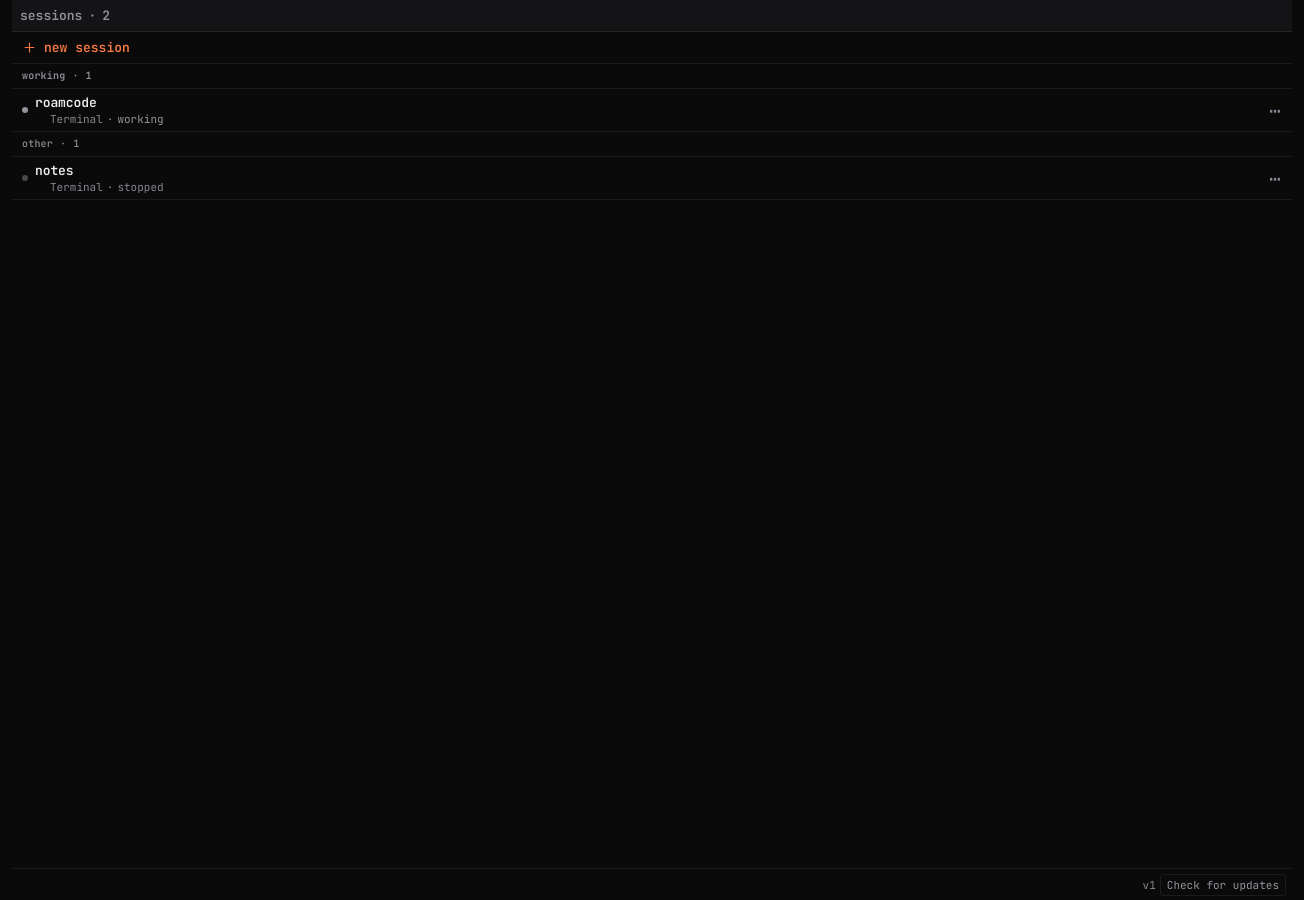
Test: SessionList › offers 'Check for updates' when up to date and confirms when none is found
Click the button "Check for updates" at (1223,884), box top-left (1160, 874), bottom-right (1286, 896)
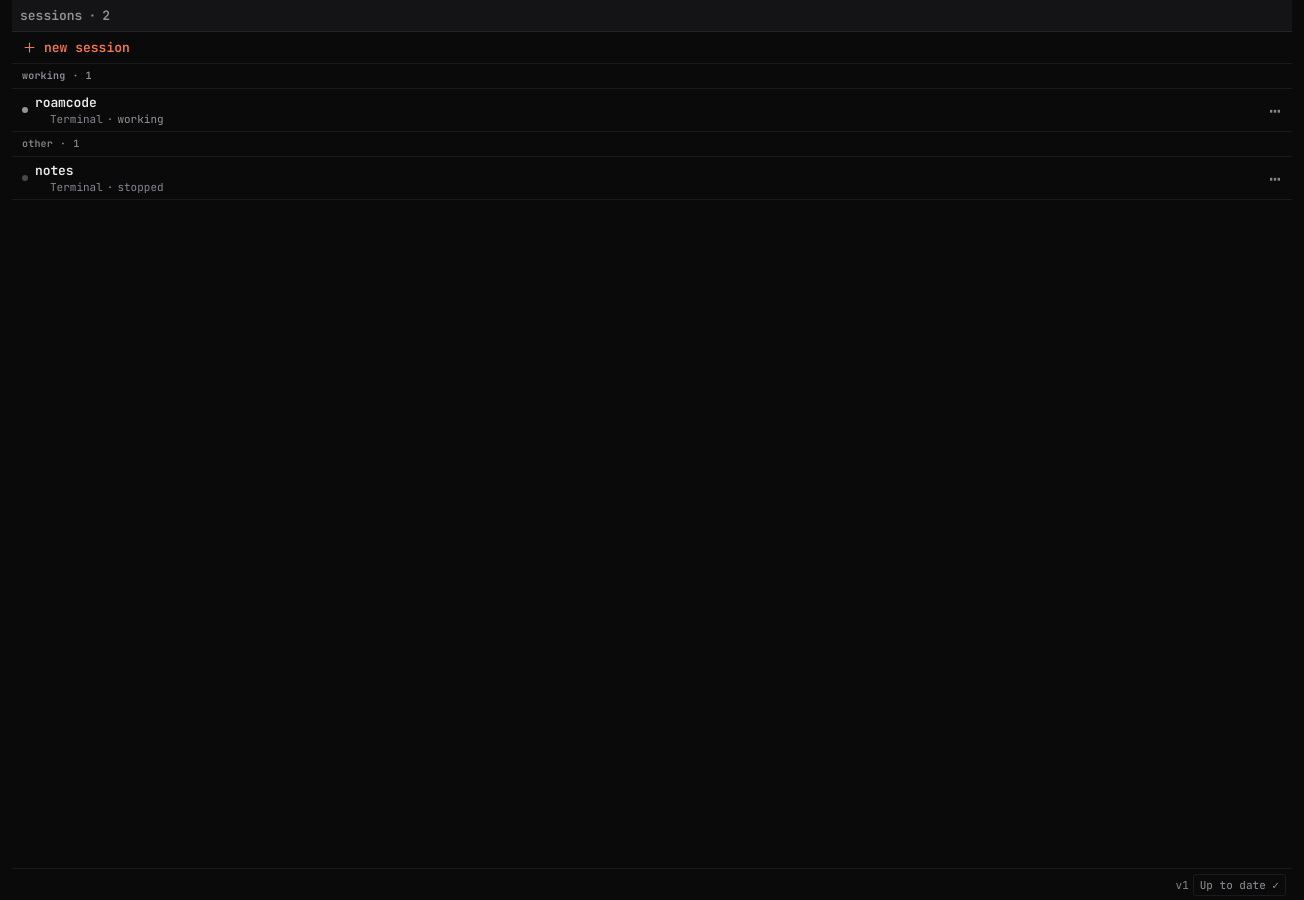
Now the button "Up to date ✓" is shown, box top-left (1193, 874), bottom-right (1286, 896)
